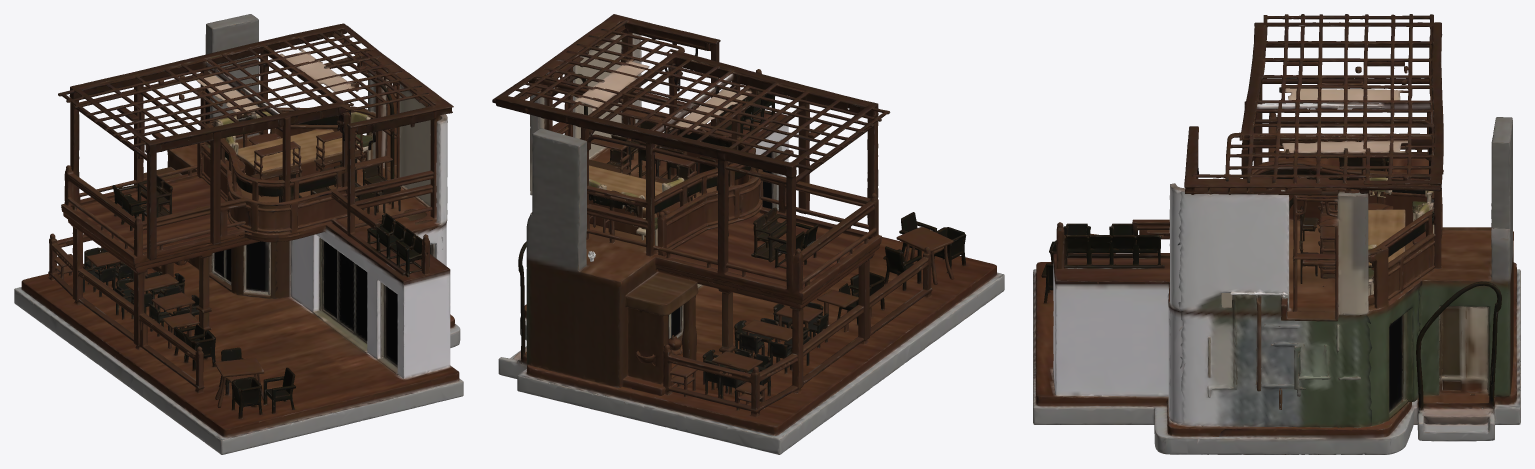
File: egyptian-rowing-club-2.glb
3 renders of one model, left to right at view 1: azimuth 30°, elevation 25°; view 2: azimuth 150°, elevation 25°; view 3: azimuth 270°, elevation 25°, orthographic. The views are drawn at different scales.
Size of the model in its own units: 0.8561 by 0.6294 by 1.
1 material, 1 textured.
